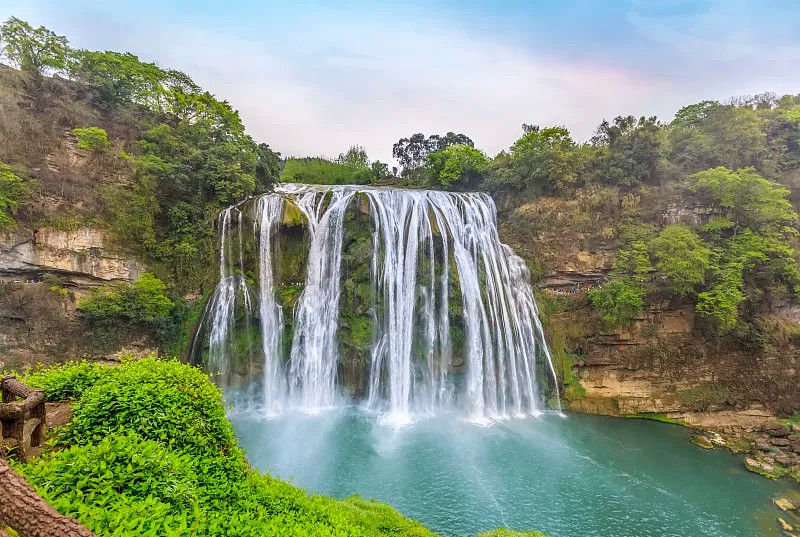Huangguoshu: (203, 183, 562, 421)
